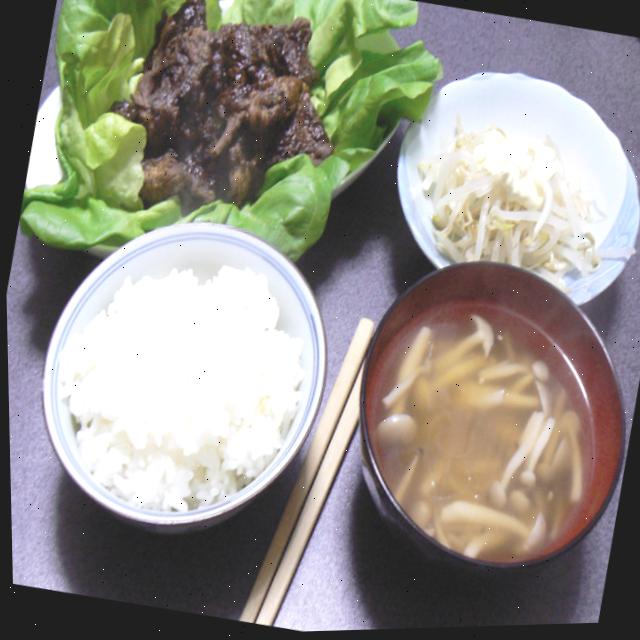汤锅炖物: (320, 238, 640, 594)
米饭主食: (11, 218, 335, 552)
